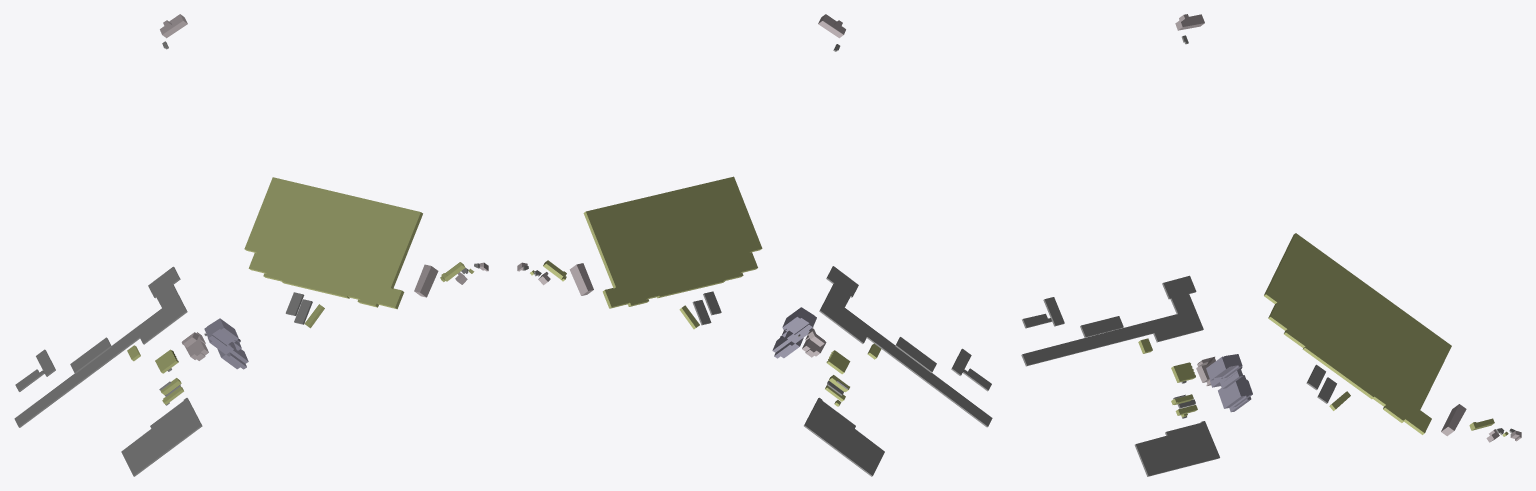
3 views of the same model, side by side, from view 1: azimuth 30°, elevation 25°; view 2: azimuth 150°, elevation 25°; view 3: azimuth 330°, elevation 25° (orthographic). The views are drawn at different scales.
Visible parts, largest first — view 1: 0_1_1_3_2; view 2: 0_1_1_3_2; view 3: 0_1_1_3_2.
Boxes of the visible parts, x1=… form: 0_1_1_3_2: x1=14, y1=14, x2=488, y2=476; 0_1_1_3_2: x1=517, y1=14, x2=992, y2=476; 0_1_1_3_2: x1=1021, y1=14, x2=1521, y2=476.
Size of the model in its own units: 711 by 647 by 50.19.
